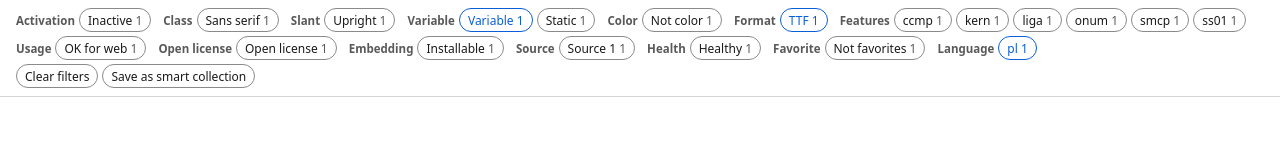
Test: saving the filter chips as a smart collection › saves exactly the chosen filters as the rules and lists the collection with its count
Click the button "Save as smart collection" at [179, 76], box x1=102 y1=64 x2=255 y2=88
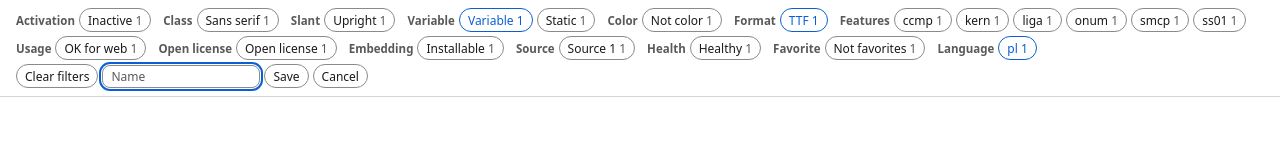
Type "Polish variable" into the field named "Smart collection name" at [181, 76], box x1=102 y1=64 x2=260 y2=88
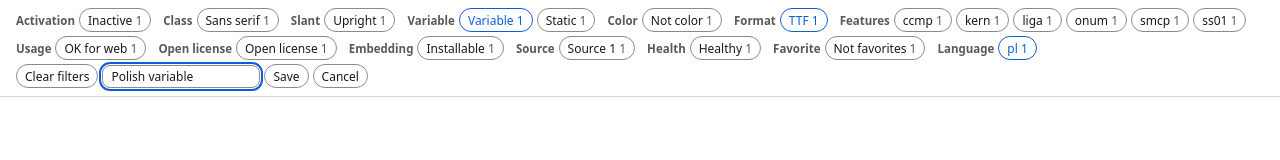
Submit the form with class "save", box x1=102 y1=64 x2=368 y2=88
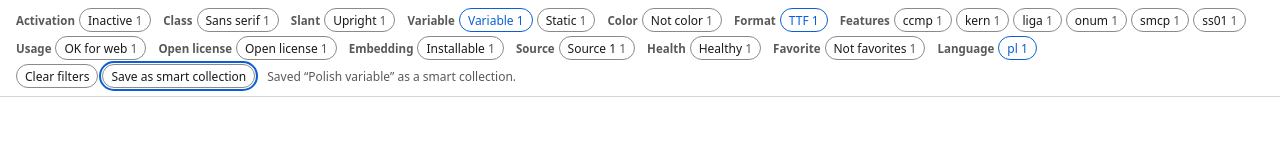
expect the message "Saved “Polish variable” as a smart collection." is shown: met, box x1=267 y1=68 x2=516 y2=84
